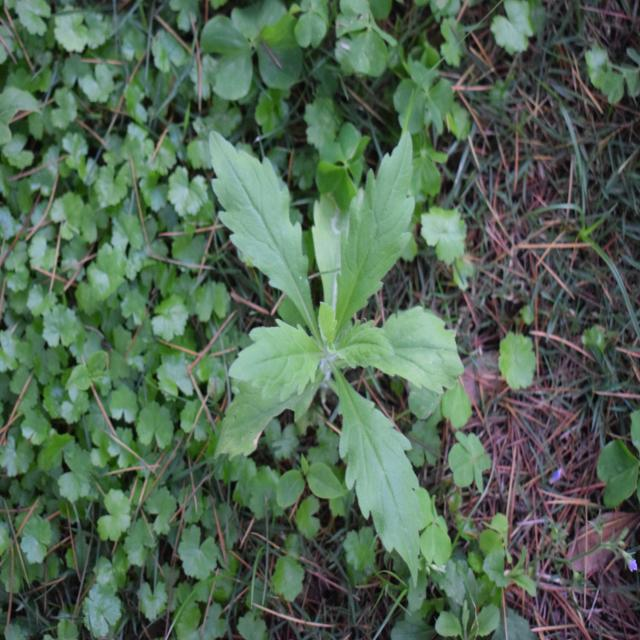horseweed: (206, 116, 437, 574)
